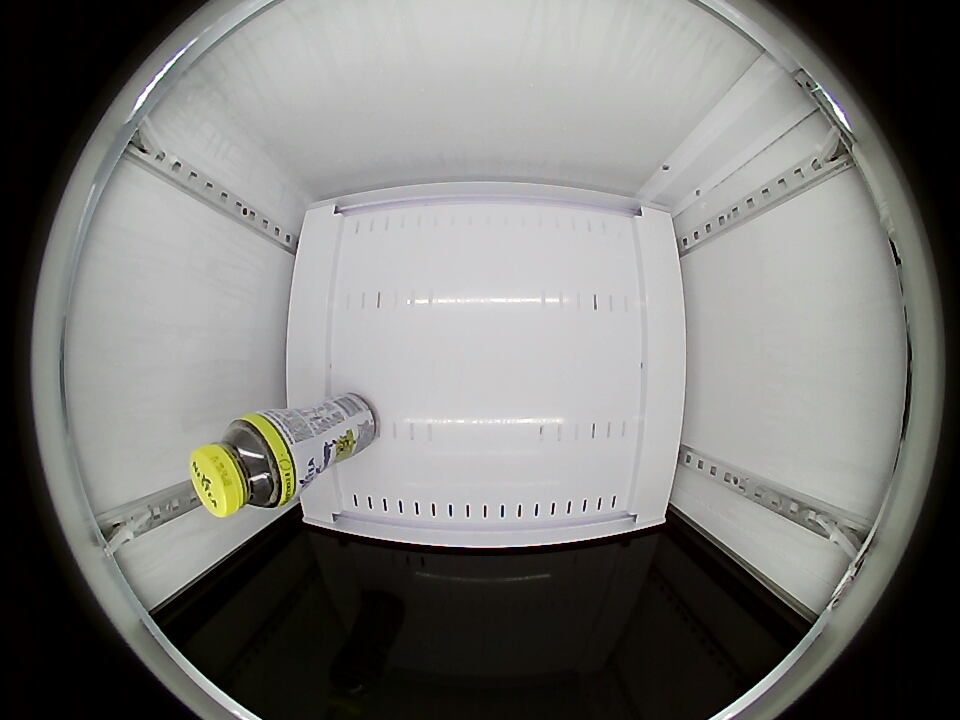chacui: (190, 413, 296, 517)
